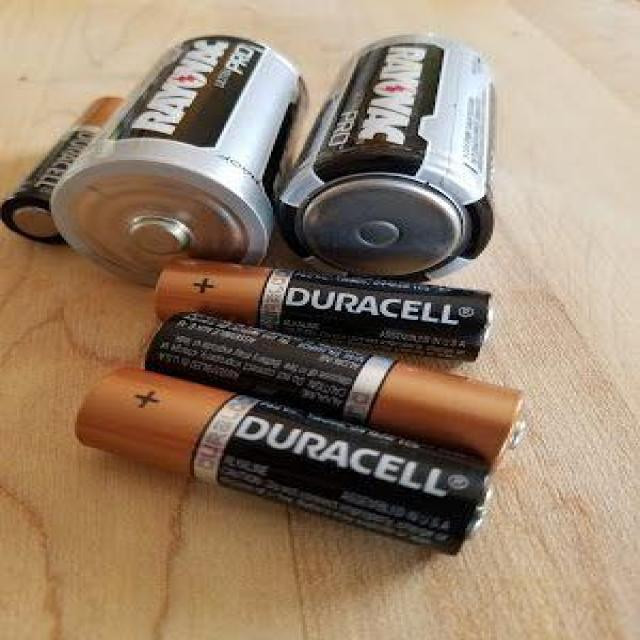battery: (77, 366, 498, 557), (55, 34, 308, 292), (145, 312, 530, 475), (280, 30, 500, 284), (152, 261, 498, 364), (0, 94, 130, 244)
